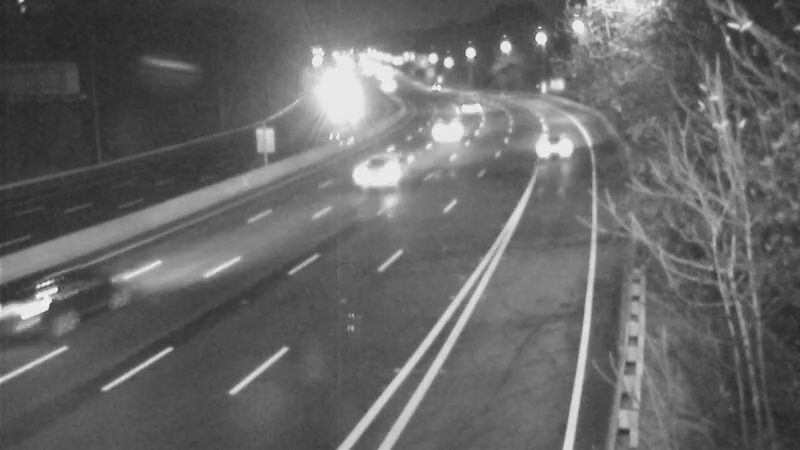vehicle: (1, 251, 98, 361), (328, 132, 408, 212), (439, 78, 489, 128), (527, 121, 577, 171), (423, 103, 473, 153)
